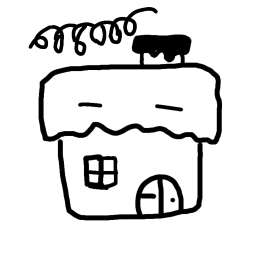closed_window: (79, 151, 123, 193)
door: (131, 170, 188, 224)
roof: (28, 60, 237, 144)
smoking_chimney: (26, 4, 199, 71)
wall: (53, 119, 211, 224)
